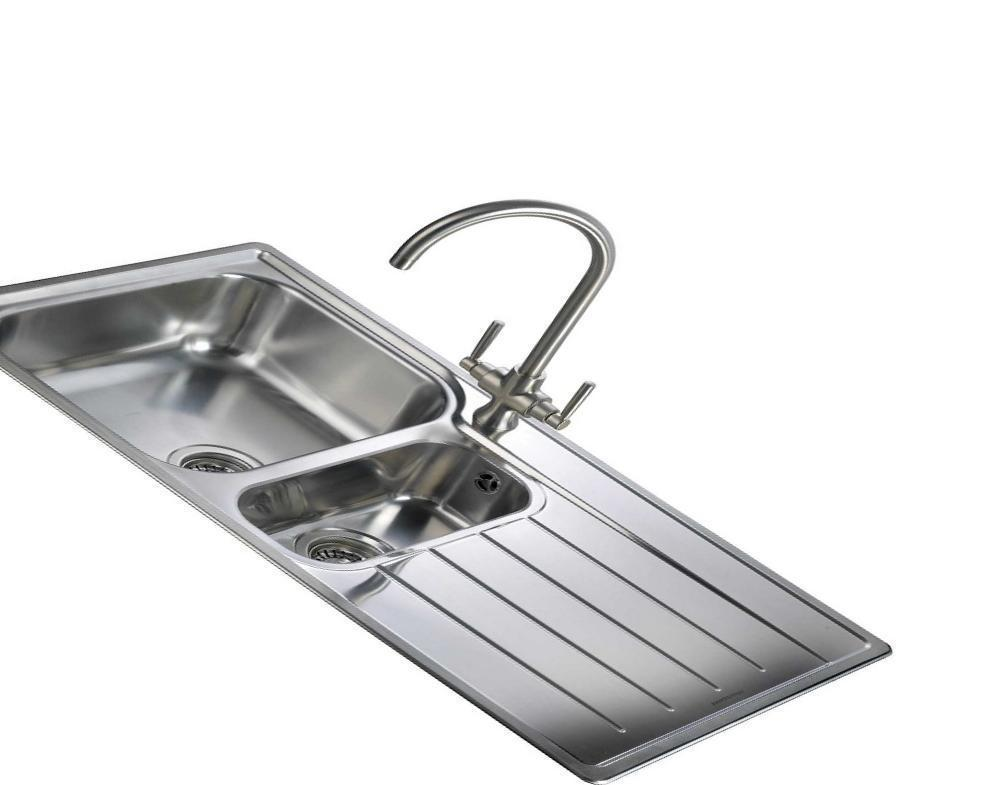Lavaplatos: (29, 191, 918, 765)
